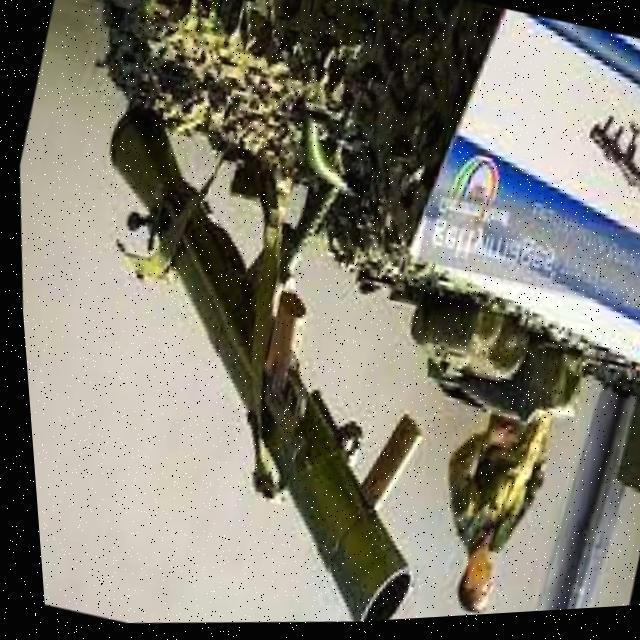rocket: (6, 86, 516, 640)
